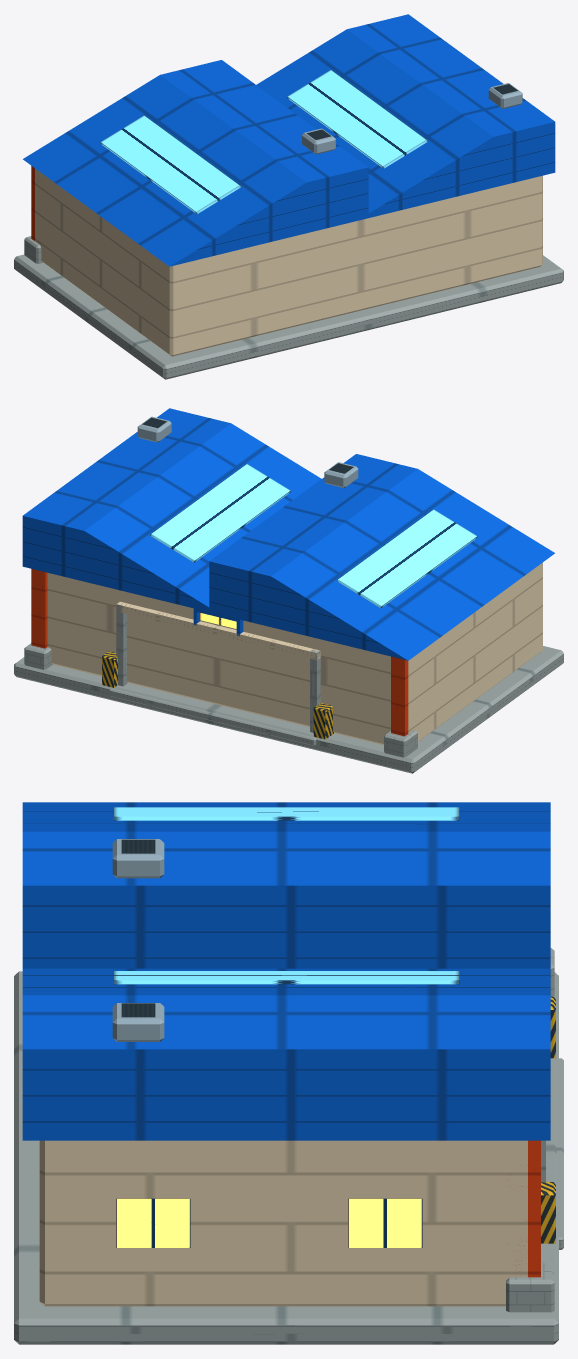
File: bld-factory-workshop-3x2.glb
The picture shows the model from 3 angles, top to bottom: view 1: azimuth 30°, elevation 25°; view 2: azimuth 150°, elevation 25°; view 3: azimuth 270°, elevation 25°; orthographic projection. The views are drawn at different scales.
Parts seen in each view (by area): view 1: bld-factory-workshop-3x2; view 2: bld-factory-workshop-3x2; view 3: bld-factory-workshop-3x2.
Part boxes in pixels (x1,y1,x2,y2): bld-factory-workshop-3x2: (14, 14, 563, 379); bld-factory-workshop-3x2: (14, 408, 563, 773); bld-factory-workshop-3x2: (14, 802, 563, 1344).
Bounding box in the file's own units: 2.9 × 1.21 × 1.92.
1 material, 1 textured.
